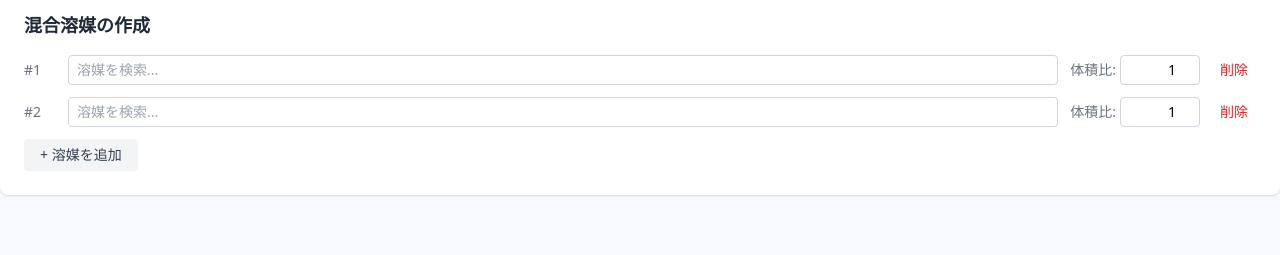
it: MixtureLab › 削除ボタンで行が減る
This screenshot has width=1280, height=255.
What coordinates should you click on to do the following:
click the button "+ 溶媒を追加"
I would click on:
 (81, 155)
Its box is left=24, top=139, right=138, bottom=171.
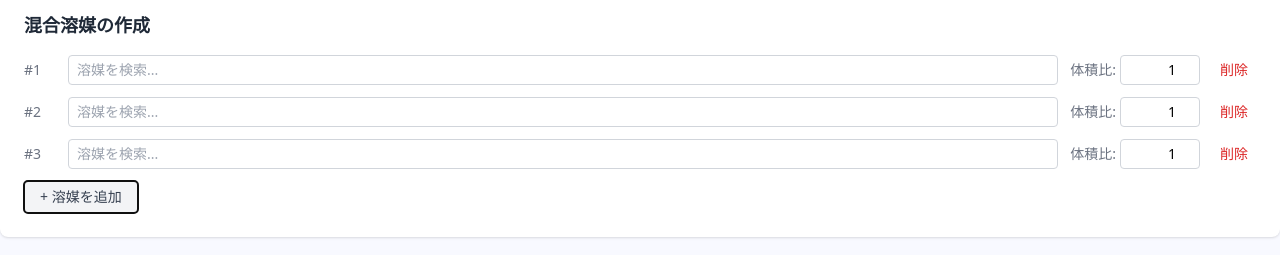
Result: the number of fields with placeholder "溶媒を検索..." is 3 at left=68, top=55, right=1058, bottom=85; left=68, top=97, right=1058, bottom=127; left=68, top=139, right=1058, bottom=169
What coordinates should you click on to do the following:
click the 1st button "削除"
I would click on:
 (1234, 70)
Its box is left=1212, top=56, right=1256, bottom=84.
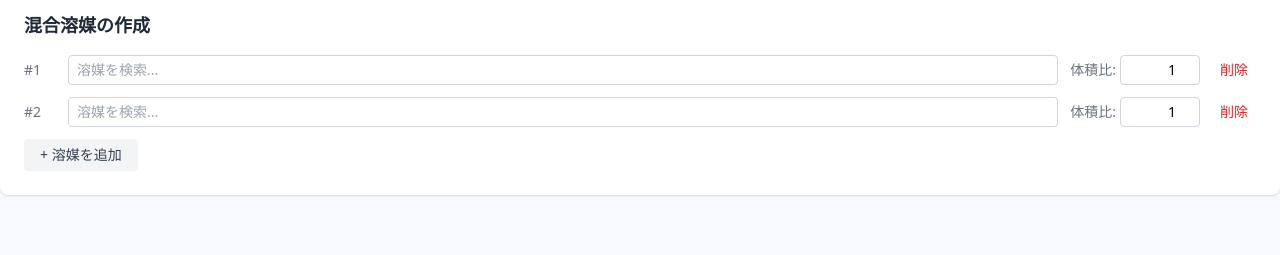
Result: the number of fields with placeholder "溶媒を検索..." is 2 at left=68, top=55, right=1058, bottom=85; left=68, top=97, right=1058, bottom=127
